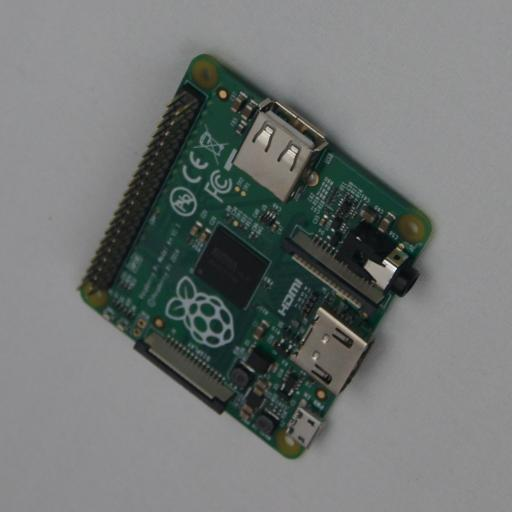Raspberry Pi A-: (78, 54, 432, 459)
